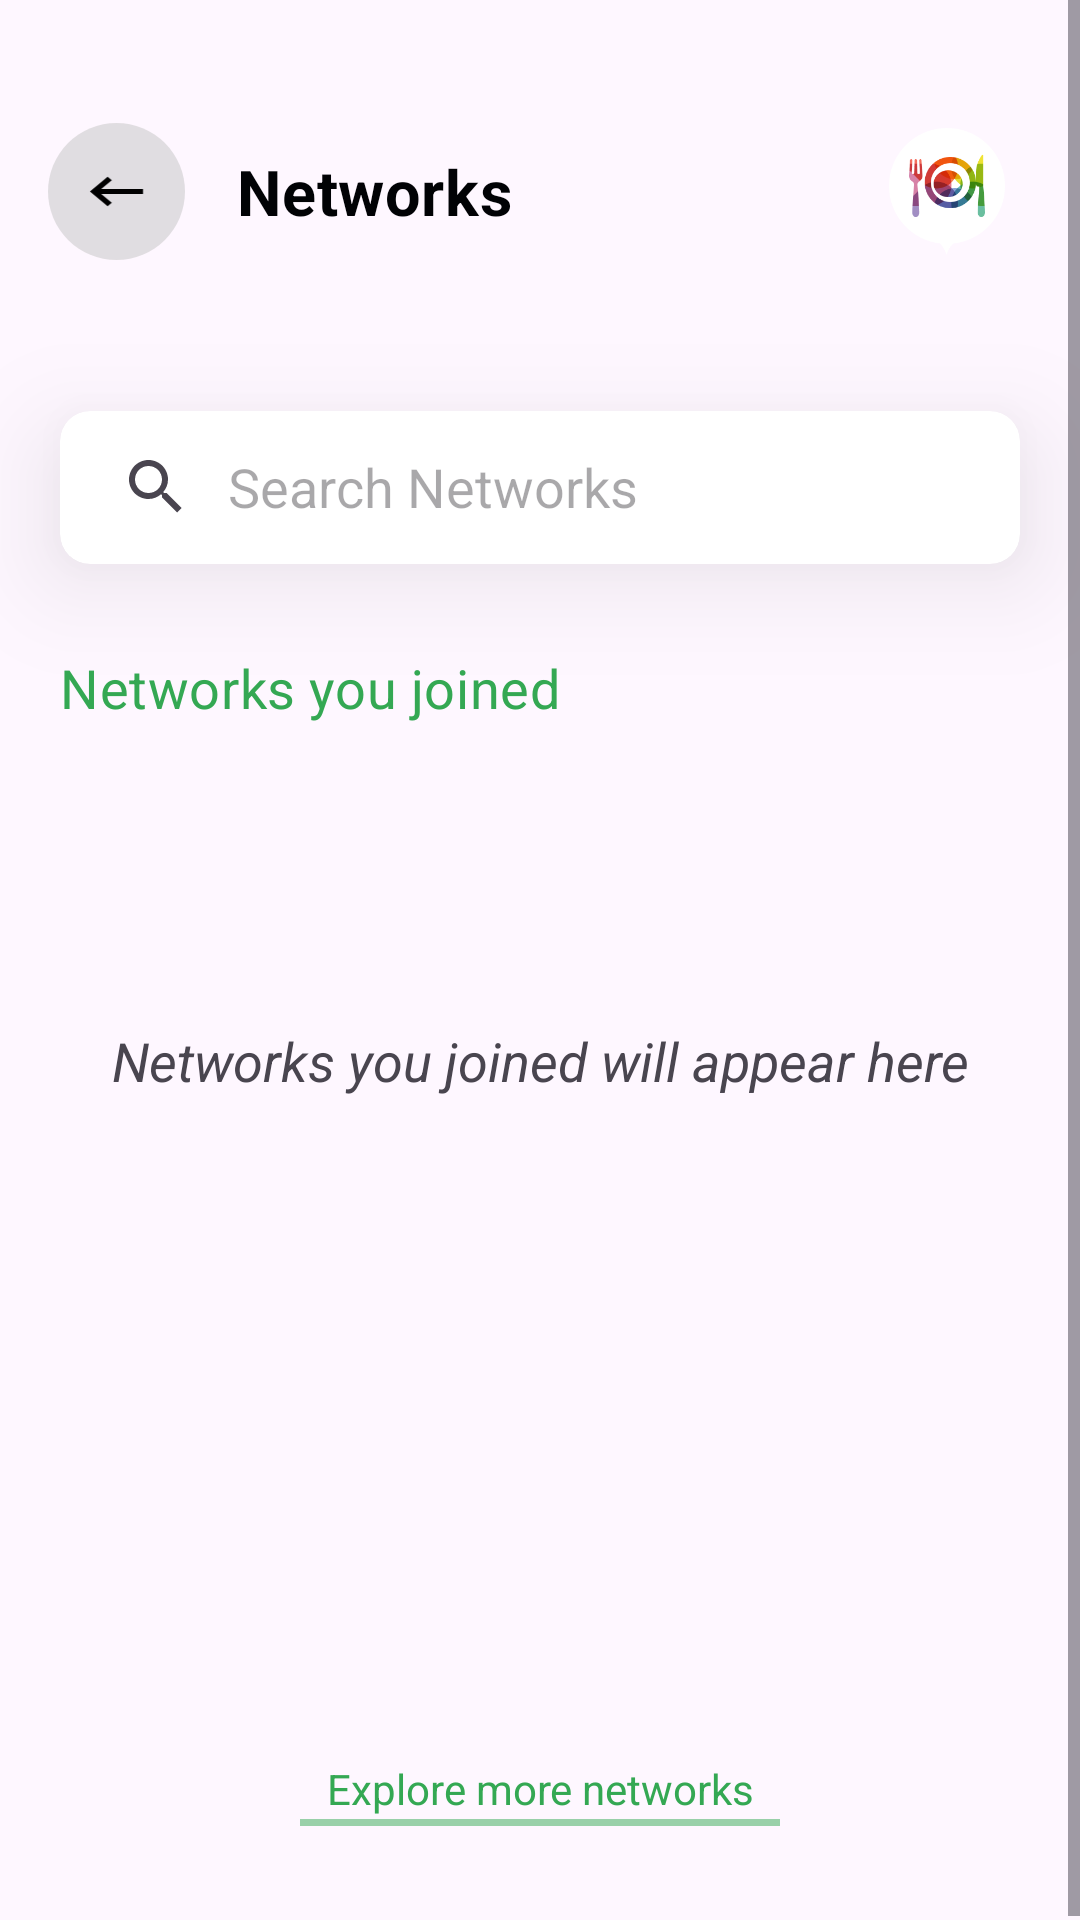

Icons on this 1080×1920 Android screen, each with the point to tap as (x=x, y=y):
back: (x=116, y=191)
